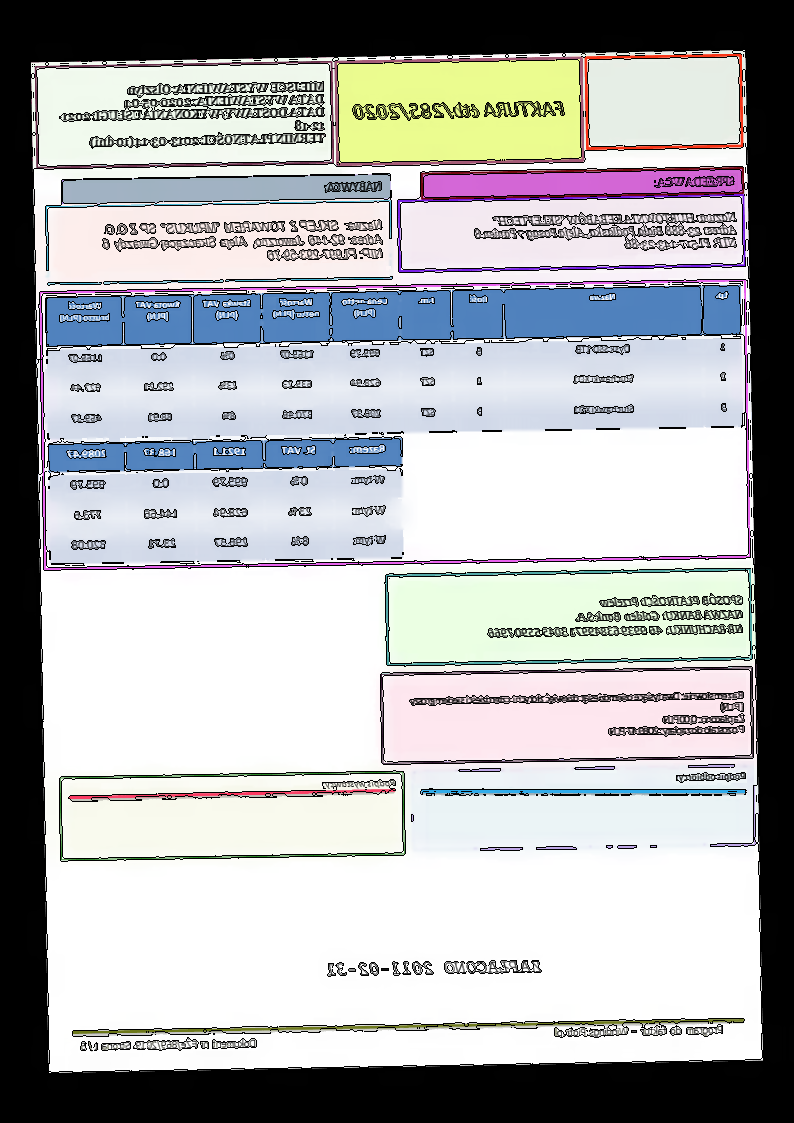Table: (46, 284, 745, 440), (47, 436, 406, 565)
TextBox: (57, 80, 327, 150), (407, 688, 747, 741), (100, 217, 385, 266), (486, 592, 745, 640), (475, 209, 739, 255), (352, 96, 567, 124), (325, 958, 543, 980), (79, 1035, 259, 1057), (554, 1023, 726, 1041), (652, 174, 738, 190), (672, 770, 749, 785), (322, 778, 397, 791), (323, 180, 383, 196)
